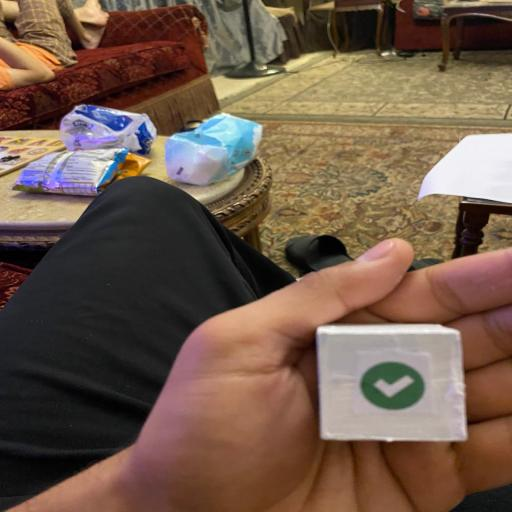Confirm: (316, 323, 466, 443)
